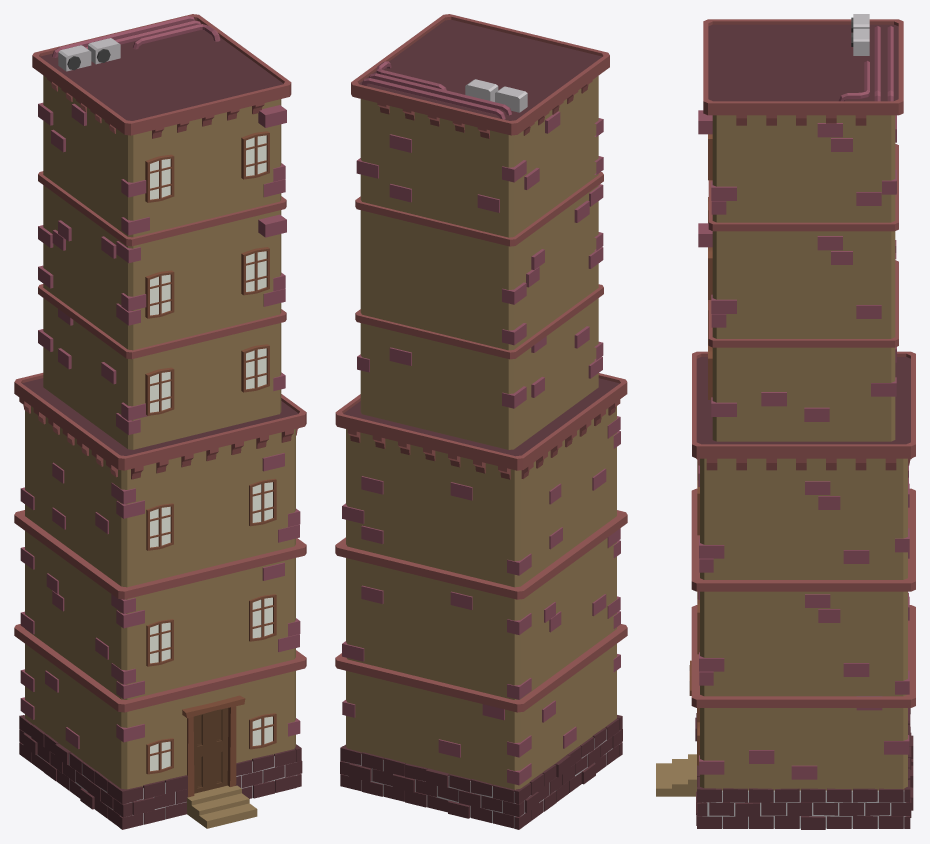
Rendered from 6Story_Stack_Mat.fbx.
The picture shows the model from 3 angles, left to right: view 1: azimuth 30°, elevation 25°; view 2: azimuth 150°, elevation 25°; view 3: azimuth 270°, elevation 25°; orthographic projection. The views are drawn at different scales.
Parts seen in each view (by area): view 1: 6Story_Stack_Mat; view 2: 6Story_Stack_Mat; view 3: 6Story_Stack_Mat.
Boxes of the visible parts, x1,y1,x2,y2 form: 6Story_Stack_Mat: (14,14,306,829); 6Story_Stack_Mat: (335,14,627,829); 6Story_Stack_Mat: (656,14,915,829).
Size of the model in its own units: 216 by 780 by 250.
